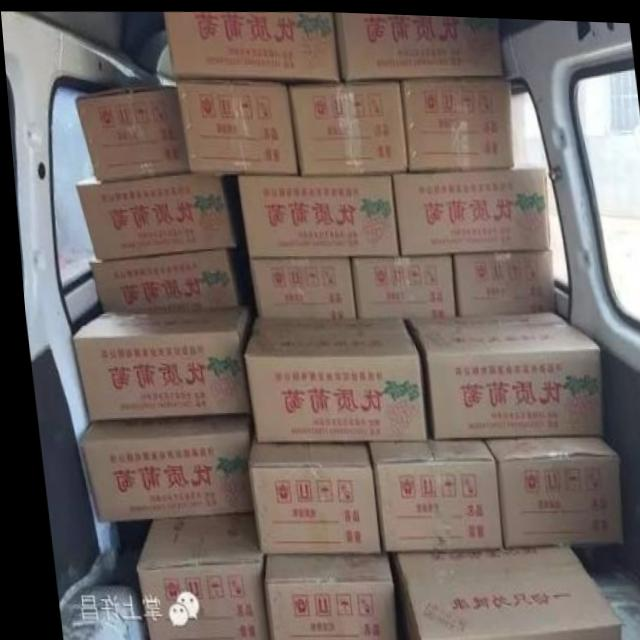box: (397, 308, 596, 437), (238, 314, 420, 442), (378, 541, 612, 640), (67, 305, 245, 422), (69, 413, 245, 521), (126, 510, 259, 640), (241, 428, 374, 553), (475, 431, 614, 545), (360, 435, 495, 550), (73, 172, 232, 262), (389, 162, 545, 253), (233, 171, 397, 256), (253, 549, 386, 640), (174, 75, 296, 173), (165, 10, 342, 77), (333, 10, 504, 77), (285, 77, 404, 173), (397, 73, 510, 169), (74, 85, 186, 181), (85, 245, 232, 313), (347, 251, 451, 315), (449, 247, 550, 312), (244, 255, 351, 316)
